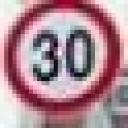speed_limit_30: (3, 0, 123, 117)
